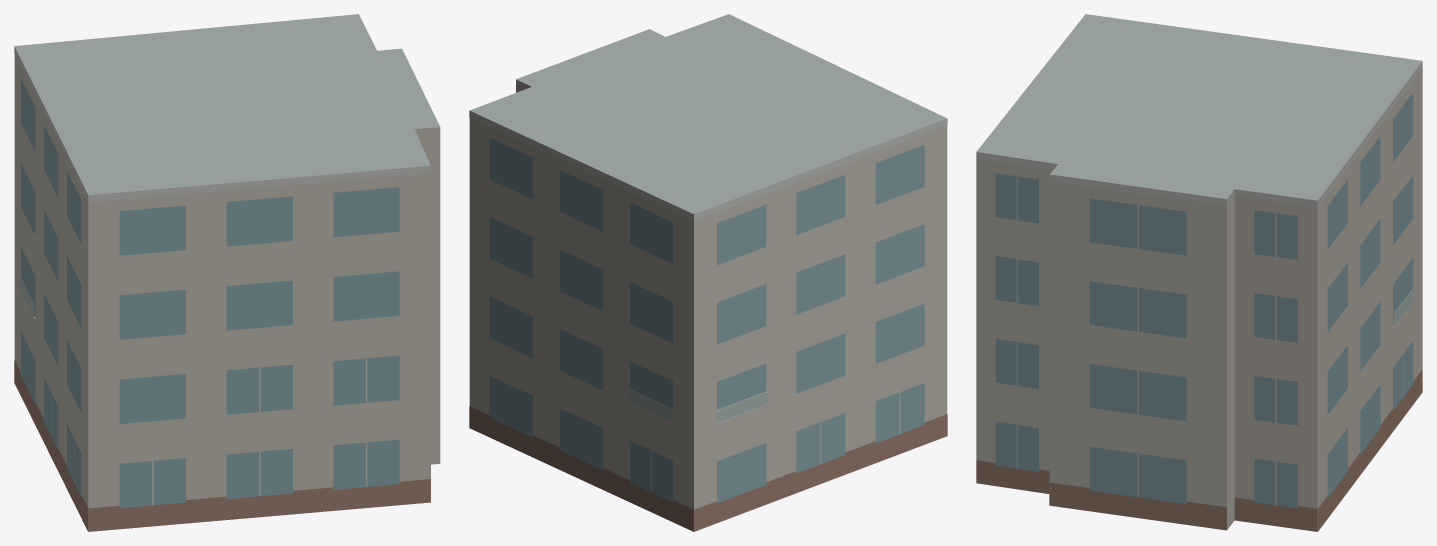
File: survey-upis-32529304.glb
3 renders of one model, left to right at view 1: azimuth 30°, elevation 25°; view 2: azimuth 150°, elevation 25°; view 3: azimuth 270°, elevation 25°, orthographic. The views are drawn at different scales.
Visible parts, largest first — view 1: survey-upis-32529304.tmp; view 2: survey-upis-32529304.tmp; view 3: survey-upis-32529304.tmp.
Part boxes in pixels (box(x1,y1,x2,y2)): survey-upis-32529304.tmp: box(14, 14, 440, 531); survey-upis-32529304.tmp: box(469, 14, 947, 531); survey-upis-32529304.tmp: box(976, 14, 1422, 531).
Size of the model in its own units: 14.02 by 11.6 by 14.18.
